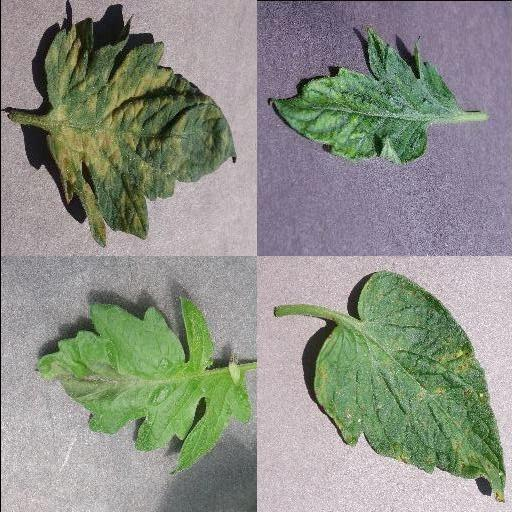Late Blight: (31, 294, 253, 474)
Leaf Mold: (43, 16, 237, 248)
Mosaic Virus: (266, 27, 460, 166)
Septoria: (312, 273, 504, 502)
